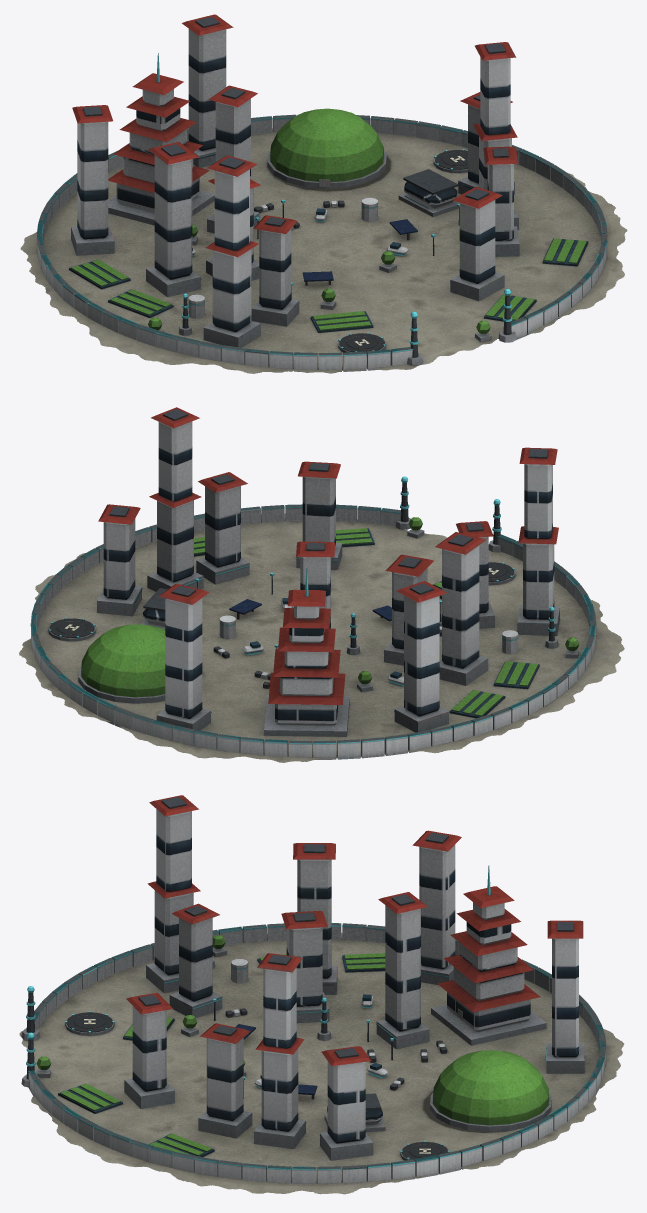
The model's file is future-town-medium-a-sinic.glb.
The picture shows the model from 3 angles, top to bottom: view 1: azimuth 30°, elevation 25°; view 2: azimuth 150°, elevation 25°; view 3: azimuth 270°, elevation 25°; orthographic projection. The views are drawn at different scales.
Parts seen in each view (by area): view 1: LOD0; view 2: LOD0; view 3: LOD0.
Boxes of the visible parts, x1,y1,x2,y2 form: LOD0: (20,14,627,373); LOD0: (19,407,624,762); LOD0: (19,795,624,1194).
Size of what is drawn, in the model's own units: 5.94 by 1.88 by 5.79.
Materials: 3 (3 with a texture image).
